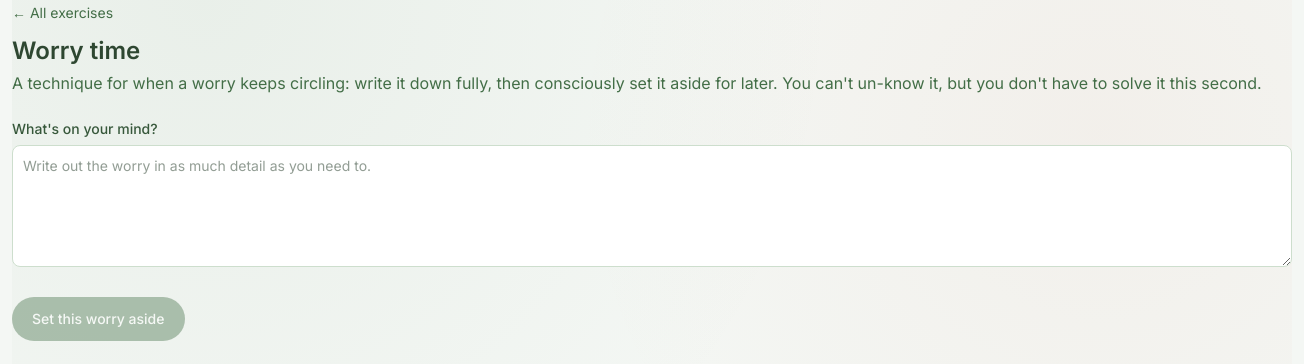
Test: WorryTime exercise › saves the worry and shows confirmation
Type "Will the presentation go well?" into the text box labelled "What's on your mind?" at {"x": 652, "y": 206}, box [12,145,1292,267]
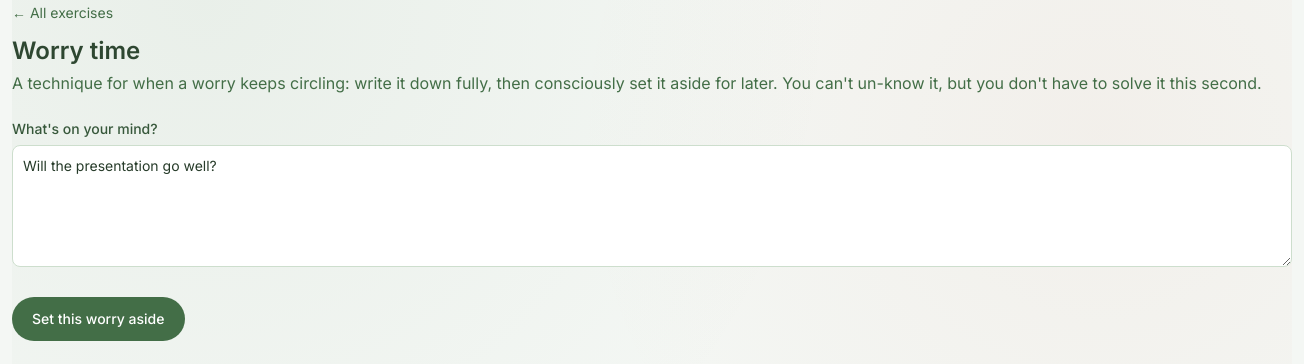
Click the button "Set this worry aside" at {"x": 98, "y": 319}, box [12,297,184,341]
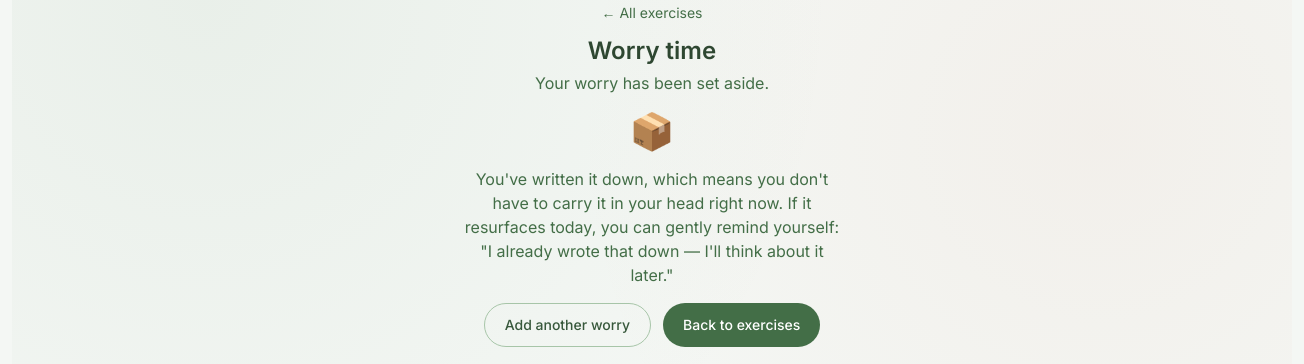
expect the text "Your worry has been set aside." is shown: met, box [535,71,769,95]
